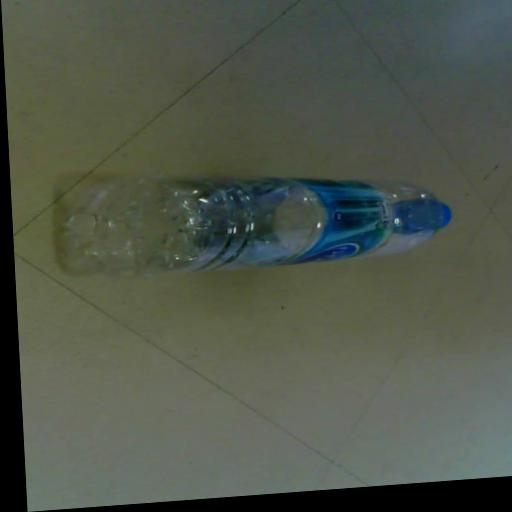bottle: (48, 156, 451, 285)
